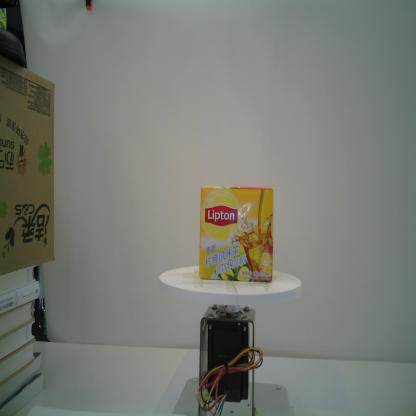Instant Drink: (199, 182, 277, 284)
